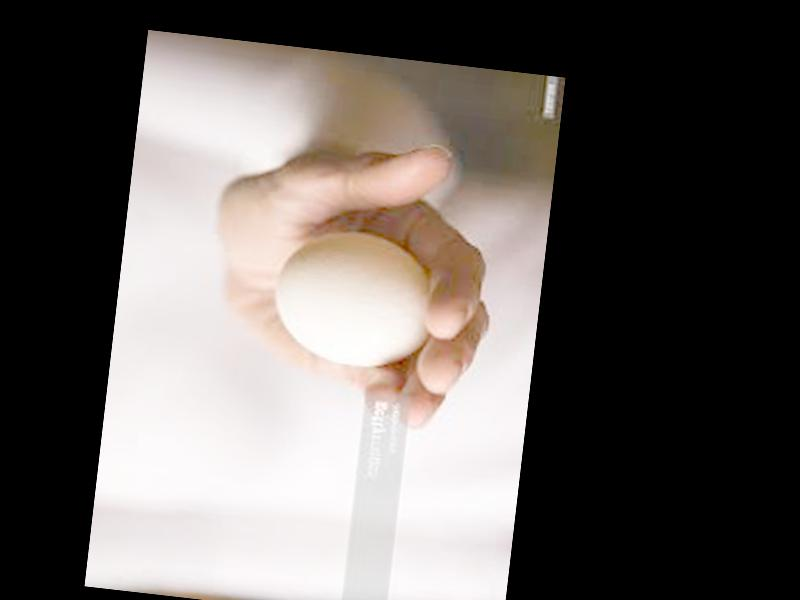Eggs: (270, 222, 438, 373)
